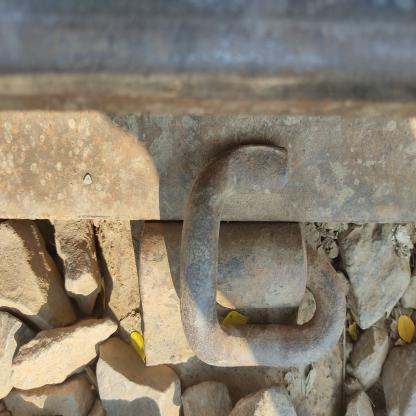Non Defective 1: (92, 76, 412, 392)
